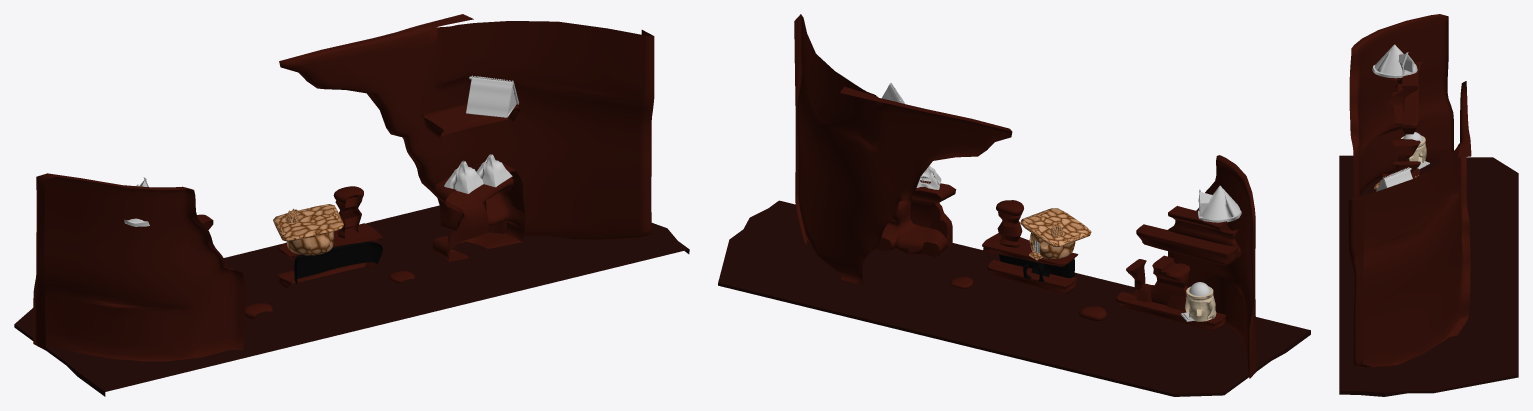
File: Escenario.FBX
The picture shows the model from 3 angles, left to right: view 1: azimuth 30°, elevation 25°; view 2: azimuth 150°, elevation 25°; view 3: azimuth 270°, elevation 25°; orthographic projection. The views are drawn at different scales.
Parts seen in each view (by area): view 1: Escenario_Izquierda, Escenario_Derecha, Suelo, Izquierda_abajo, Tunel, Casa Picapiedra, Casa paja, Izquierda_arriba, Casa Volcán, Central; view 2: Suelo, Escenario_Izquierda, Escenario_Derecha, Izquierda_abajo, Derecha_Abajo, Derecha_arriba, Tunel, Casa Picapiedra, Casa Cónica, Casa Arena, Central; view 3: Escenario_Izquierda, Suelo, Escenario_Derecha, Derecha_arriba, Casa Cónica, Derecha_Abajo, Casa Arena, Casa paja.
Boxes of the visible parts, <box> form: Escenario_Izquierda: <box>279,14,654,240</box>; Escenario_Derecha: <box>33,173,244,361</box>; Suelo: <box>14,205,689,396</box>; Izquierda_abajo: <box>432,163,525,261</box>; Tunel: <box>278,223,383,289</box>; Casa Picapiedra: <box>273,204,344,255</box>; Casa paja: <box>466,75,518,117</box>; Izquierda_arriba: <box>423,104,519,139</box>; Casa Volcán: <box>444,154,512,193</box>; Central: <box>333,186,363,238</box>; Suelo: <box>718,200,1310,396</box>; Escenario_Izquierda: <box>794,14,1012,284</box>; Escenario_Derecha: <box>1168,155,1256,378</box>; Izquierda_abajo: <box>875,180,956,256</box>; Derecha_Abajo: <box>1115,255,1225,330</box>; Derecha_arriba: <box>1136,206,1241,265</box>; Tunel: <box>982,233,1078,294</box>; Casa Picapiedra: <box>1020,208,1091,260</box>; Casa Cónica: <box>1198,185,1241,222</box>; Casa Arena: <box>1181,282,1216,321</box>; Central: <box>996,200,1023,247</box>; Escenario_Izquierda: <box>1348,81,1471,367</box>; Suelo: <box>1339,155,1518,396</box>; Escenario_Derecha: <box>1349,14,1453,197</box>; Derecha_arriba: <box>1389,62,1422,134</box>; Casa Cónica: <box>1372,44,1417,78</box>; Derecha_Abajo: <box>1392,139,1420,176</box>; Casa Arena: <box>1401,132,1429,169</box>; Casa paja: <box>1376,167,1412,191</box>.
Bounding box in the file's own units: 6651 × 2382 × 2111.
